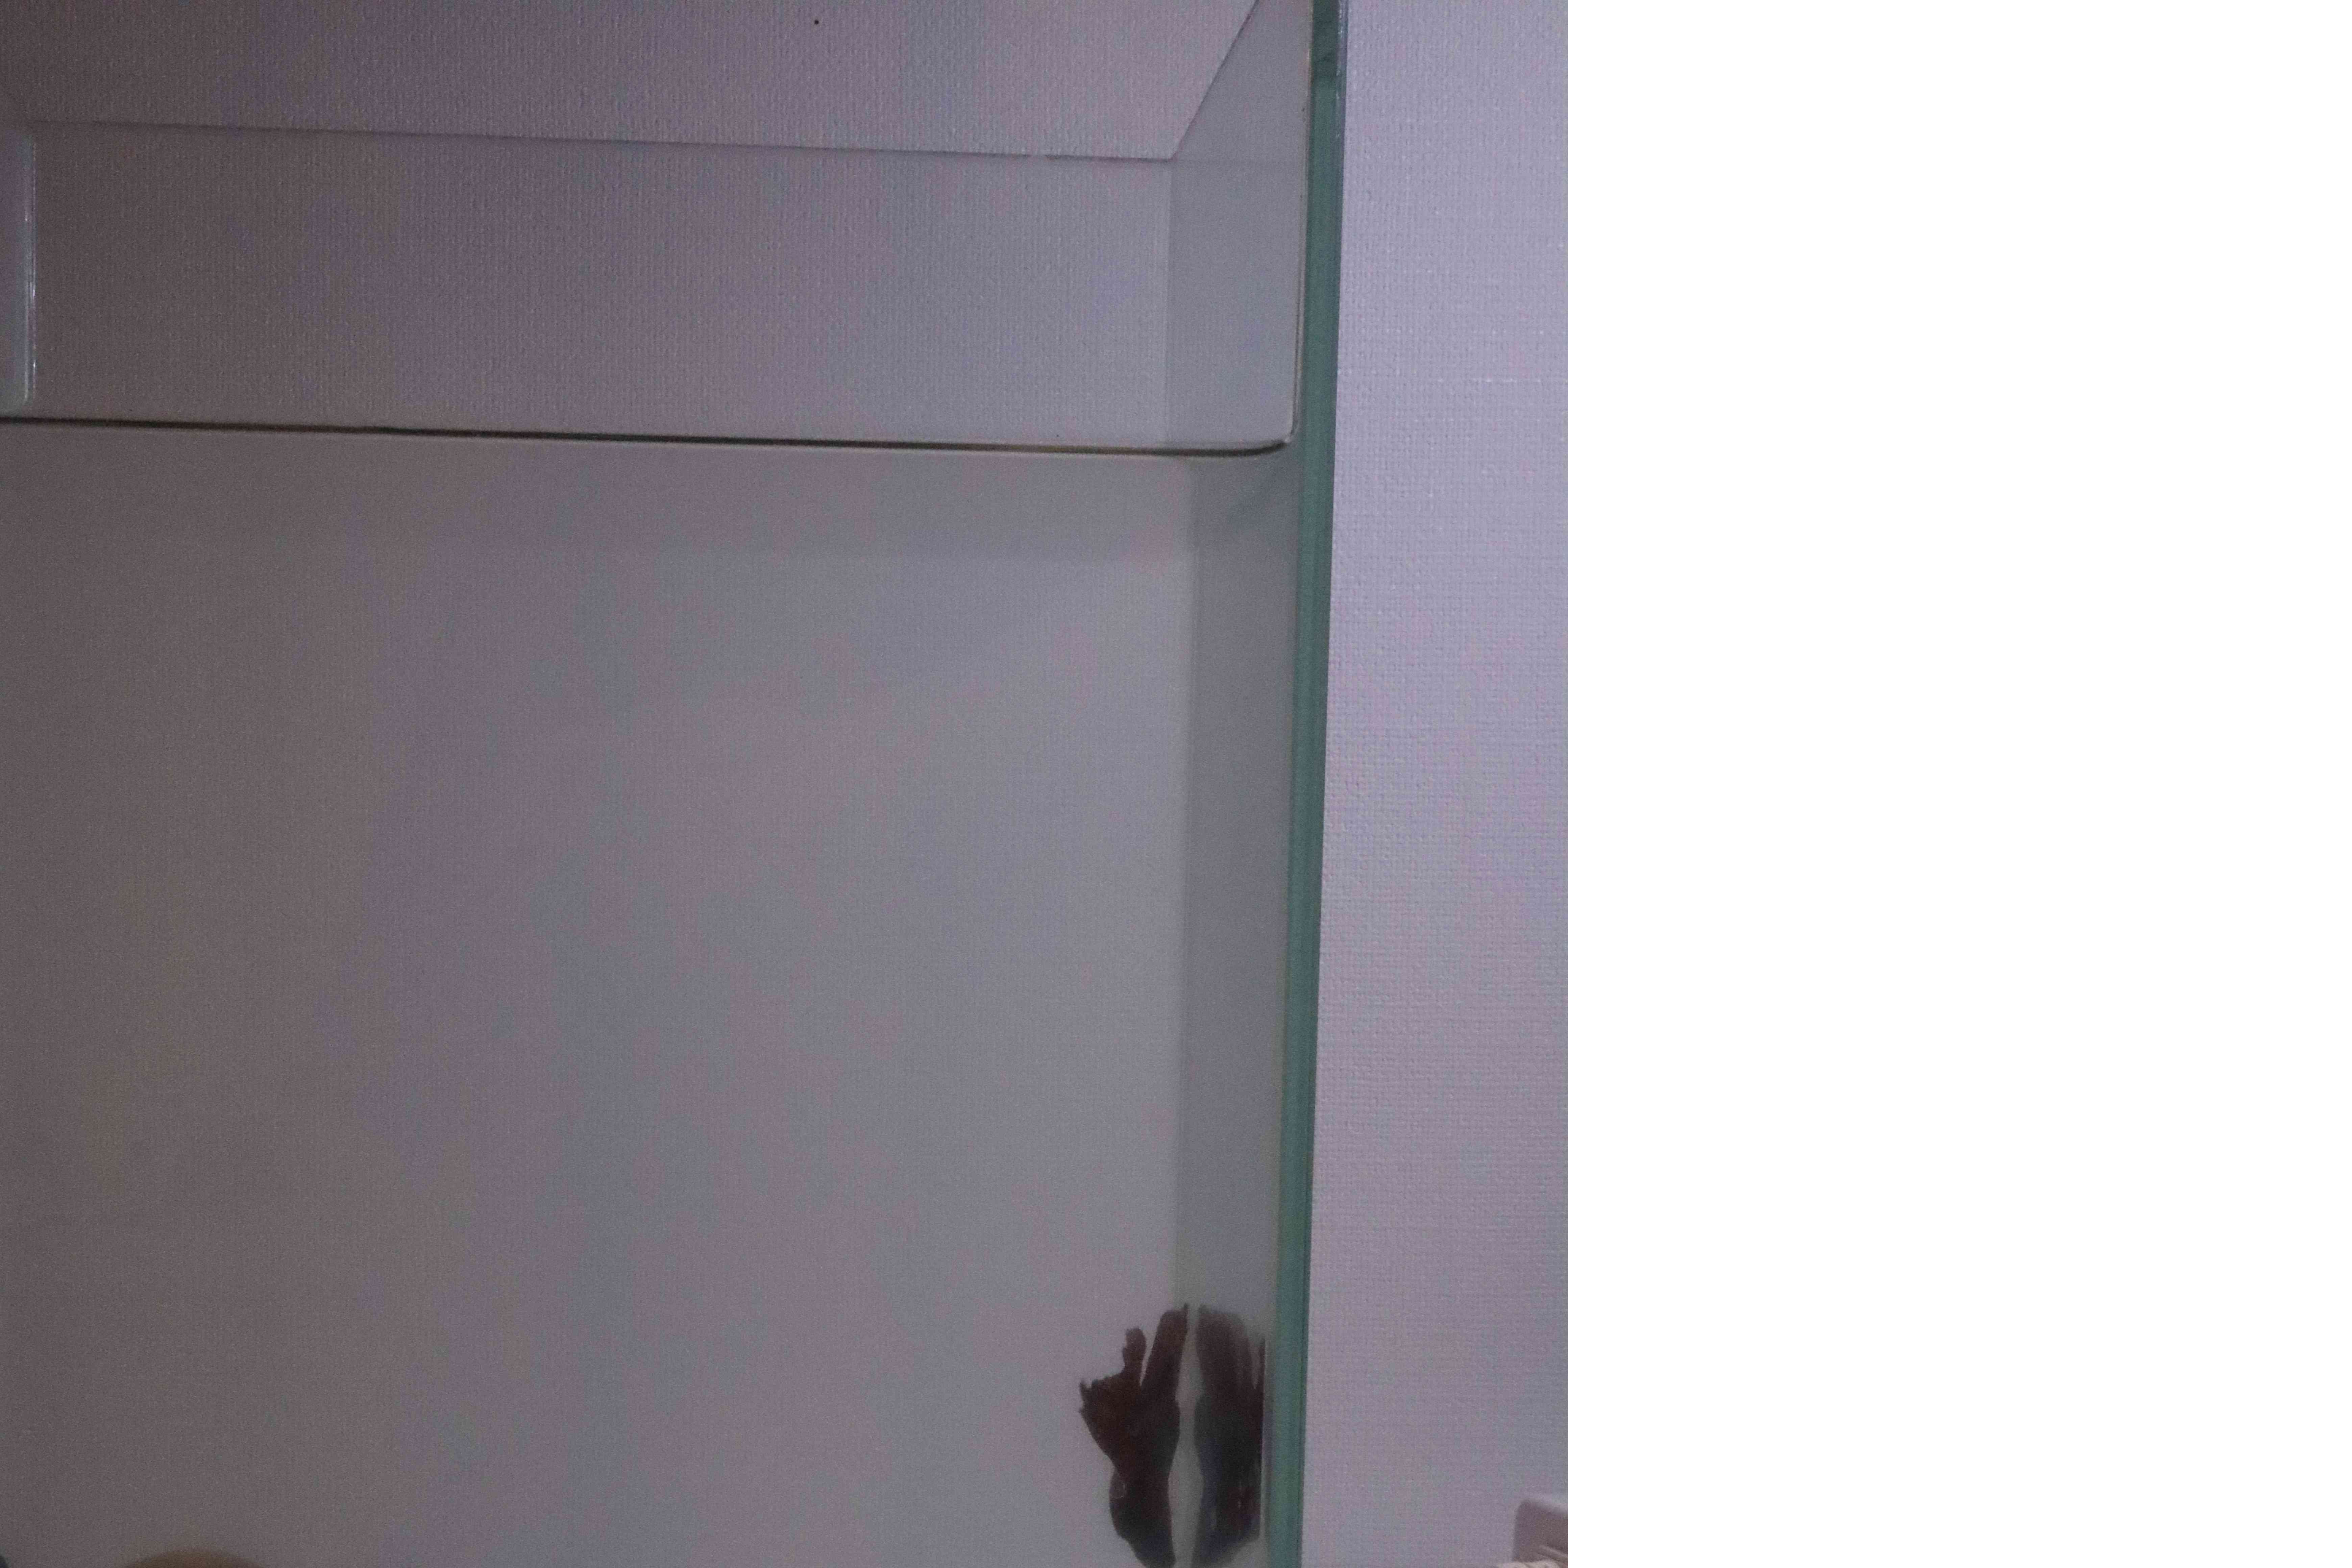fish: (1048, 1302, 1202, 1568)
